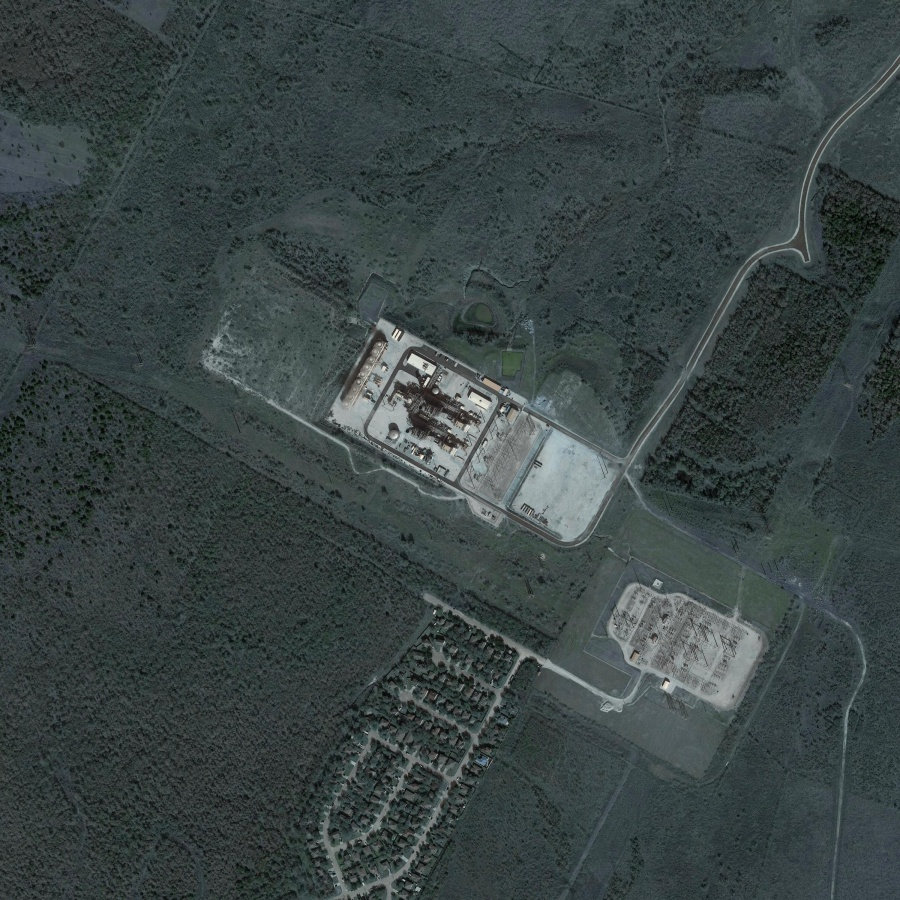PowerPlant: (331, 321, 541, 511), (605, 567, 752, 704)
